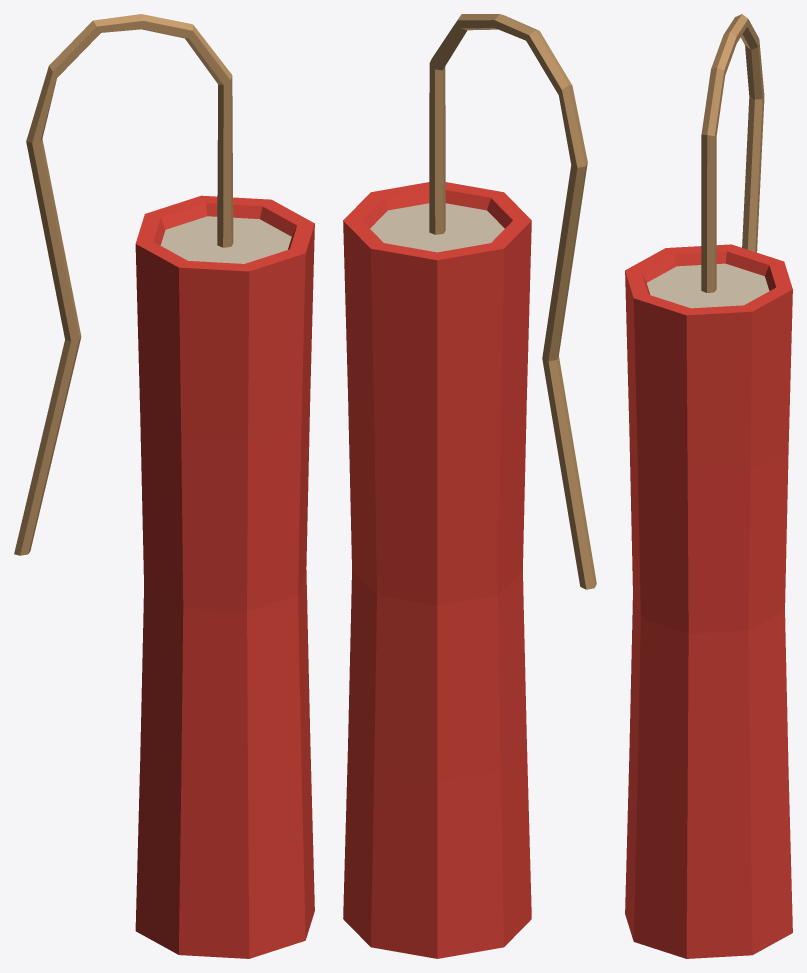
The model's file is Dynamite_1.fbx.
3 views of the same model, side by side, from view 1: azimuth 30°, elevation 25°; view 2: azimuth 150°, elevation 25°; view 3: azimuth 270°, elevation 25° (orthographic). The views are drawn at different scales.
Parts seen in each view (by area): view 1: Dynamite_1; view 2: Dynamite_1; view 3: Dynamite_1.
Boxes of the visible parts, <box> form: Dynamite_1: <box>14,14,314,958</box>; Dynamite_1: <box>343,14,596,958</box>; Dynamite_1: <box>625,14,792,958</box>.
Bounding box in the file's own units: 10.52 × 6.27 × 35.37.
